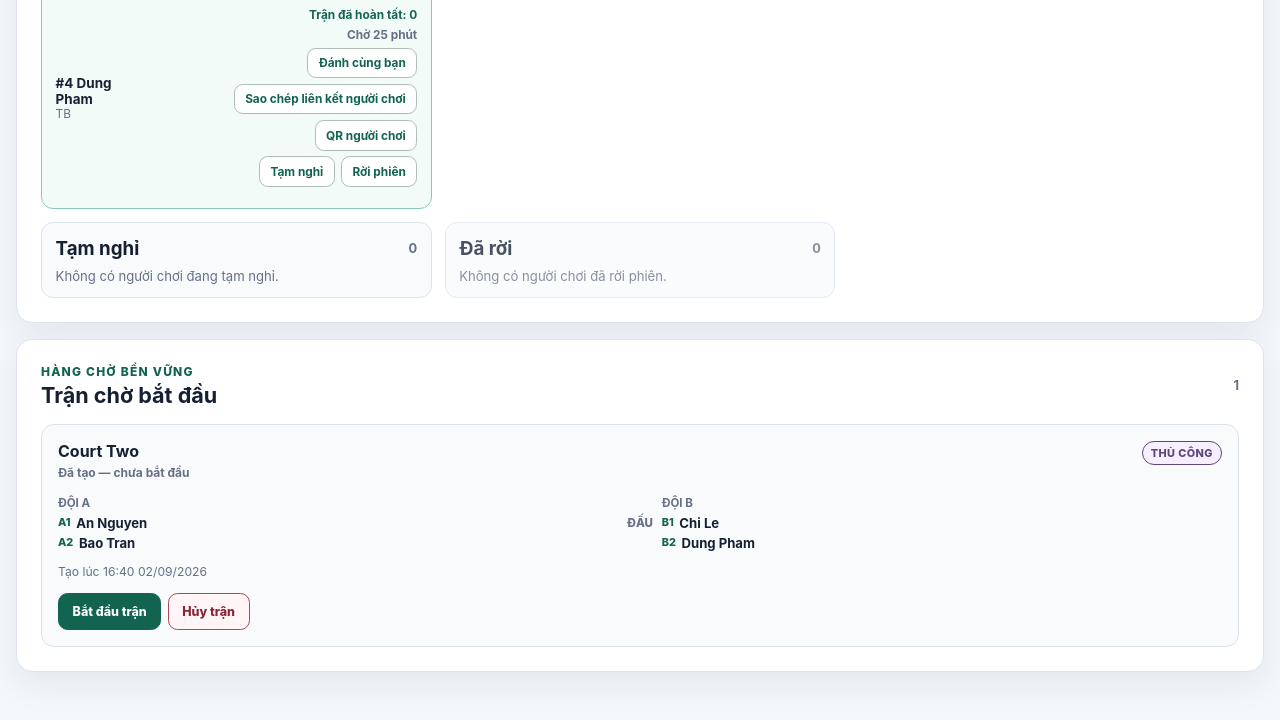
Scenario: Start Match mutation › reconciles four runtime reads and shows scoped feedback after 409
(page scrolled)
Click the button "Bắt đầu trận" at point(110, 612), box [58,593,161,630]
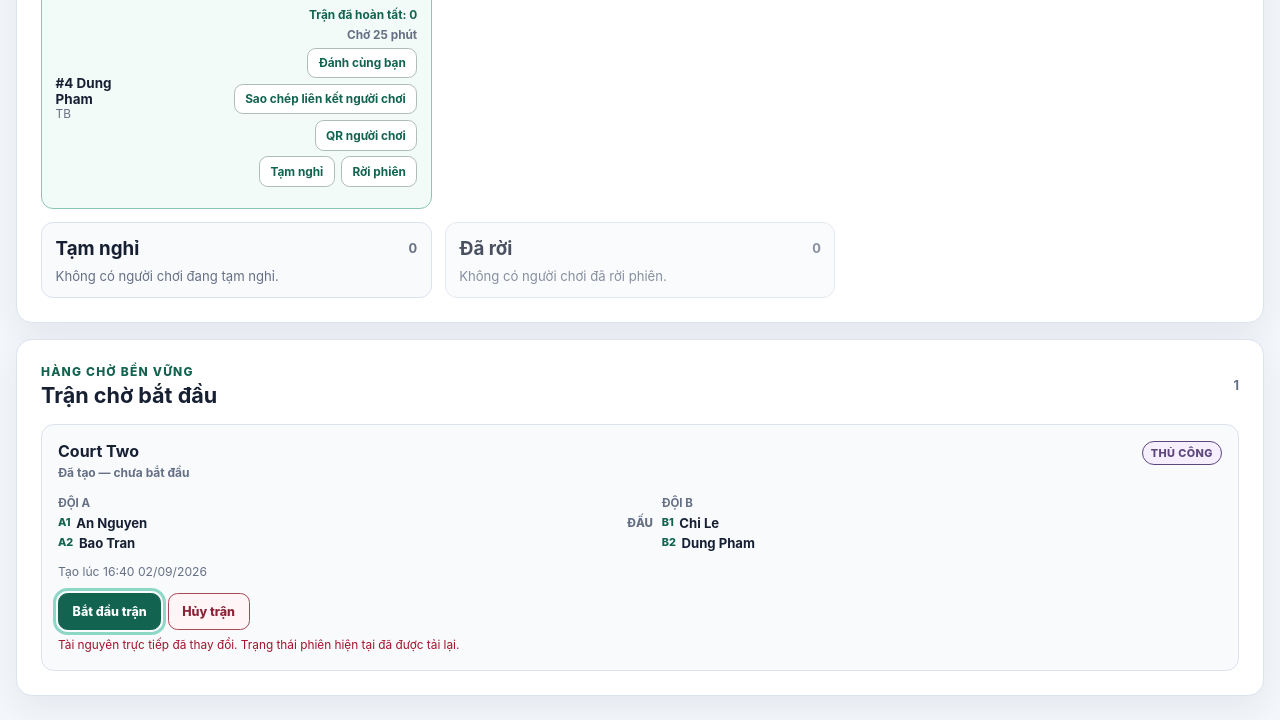
expect the message reads "Tài nguyên trực tiếp đã thay đổi. Trạng thái phiên hiện tại đã được tải lại.": met, box [58,638,459,652]
